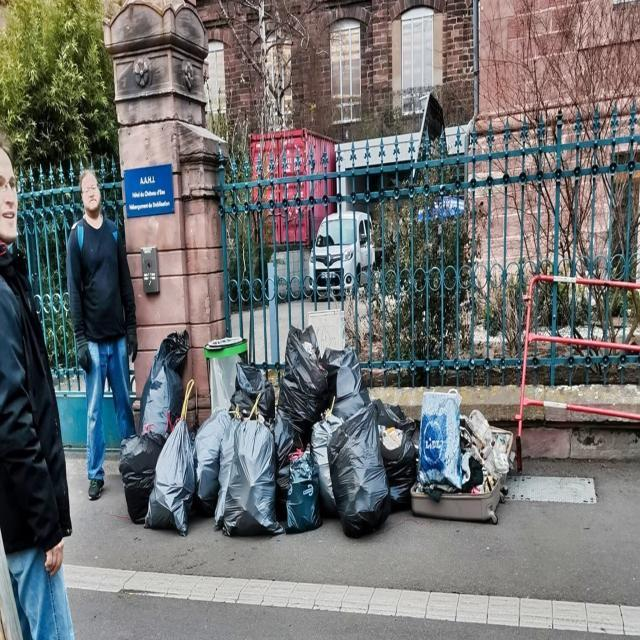garbage: (106, 324, 524, 544)
